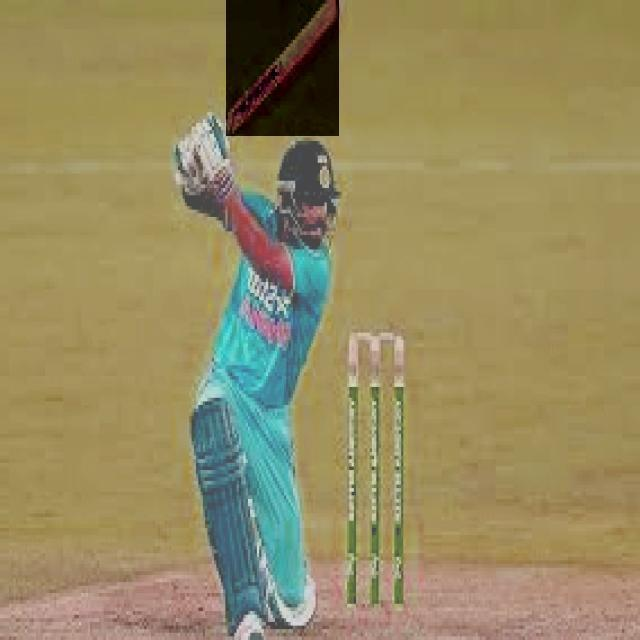bat: (230, 0, 339, 137)
